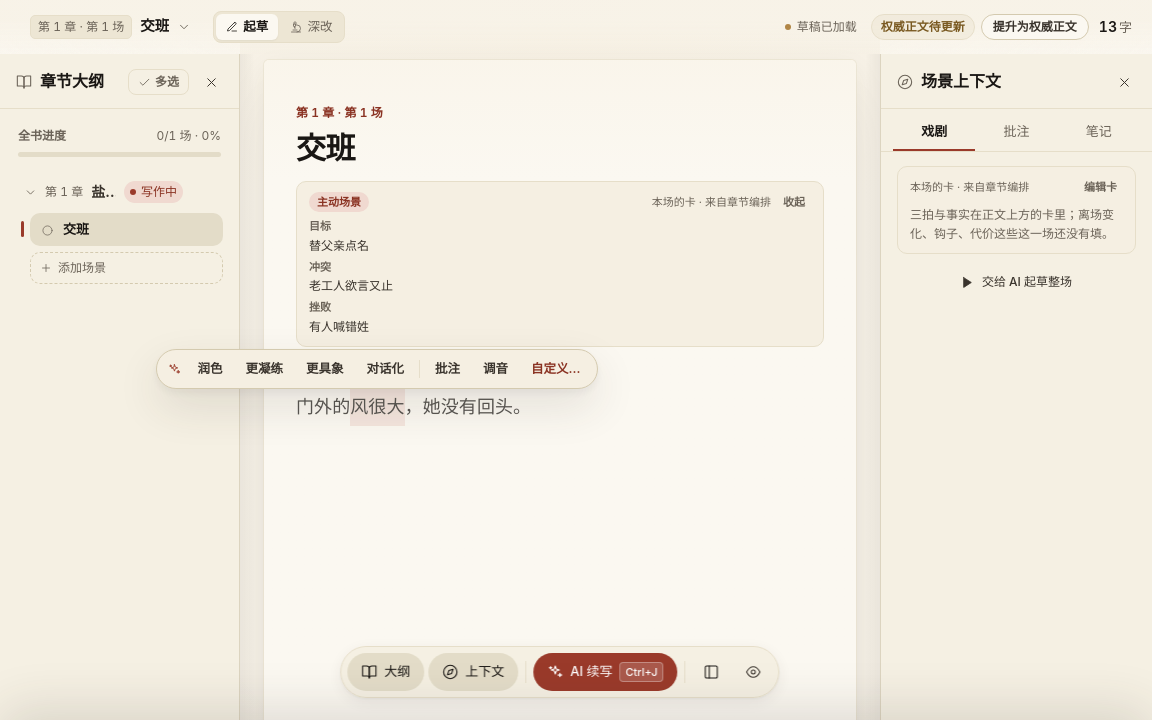
Test case: 写作台 · 选区改写 › 替换进正文之后采纳才被拦下：提示那一句的第几字要改；别的采纳失败照旧不打扰
Click the button "润色".
click(210, 369)  # box left=186, top=354, right=233, bottom=384
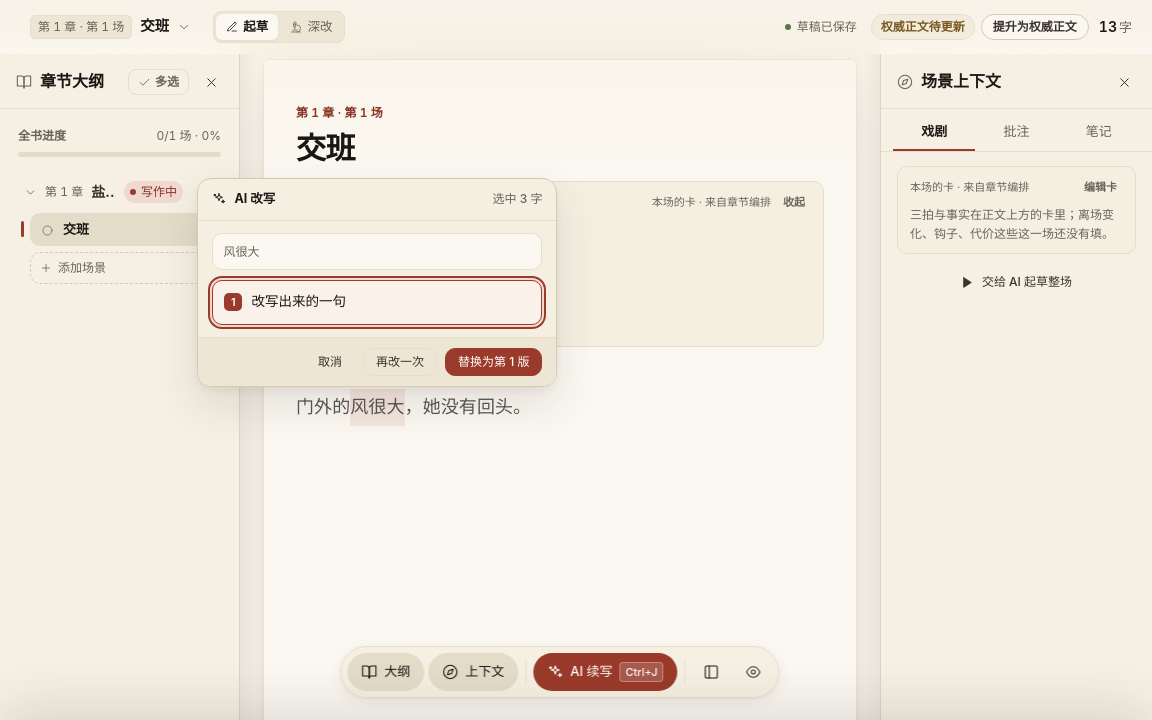
Expected: the button "替换为第 1 版" is shown
Click the button "替换为第 1 版".
click(494, 362)  # box left=445, top=348, right=542, bottom=376
(page scrolled)
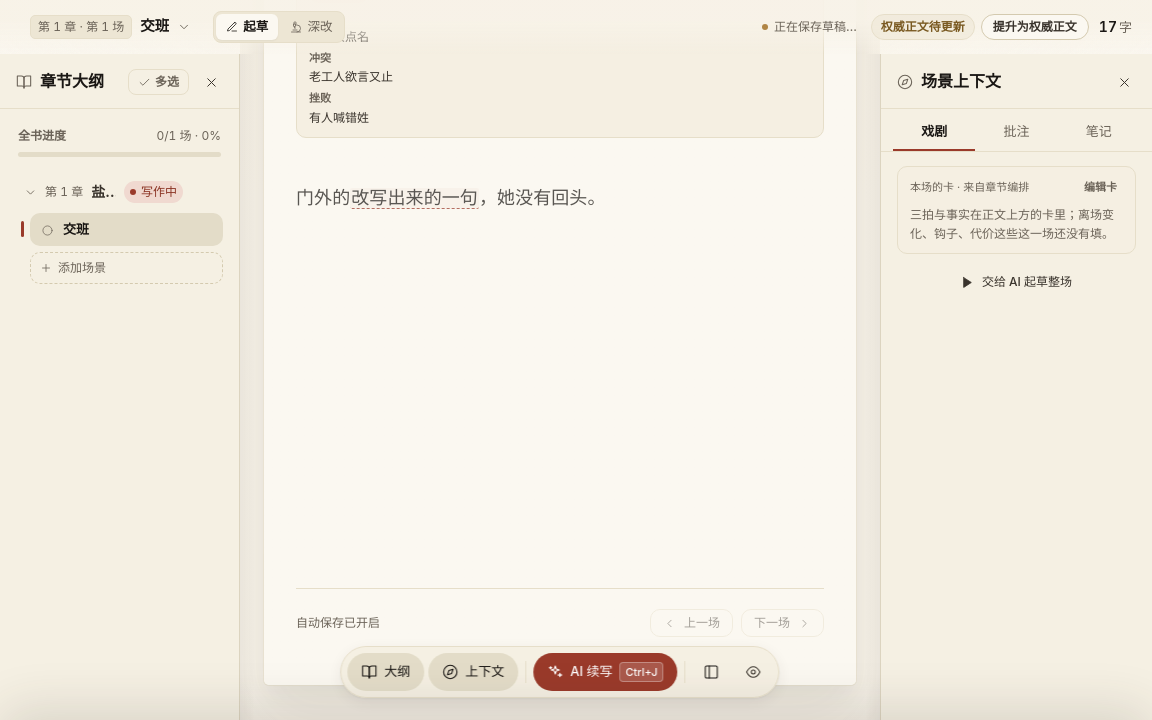
Expected: the field with class "wr-editor" shows "改写出来的一句", left=296, top=188, right=606, bottom=209
